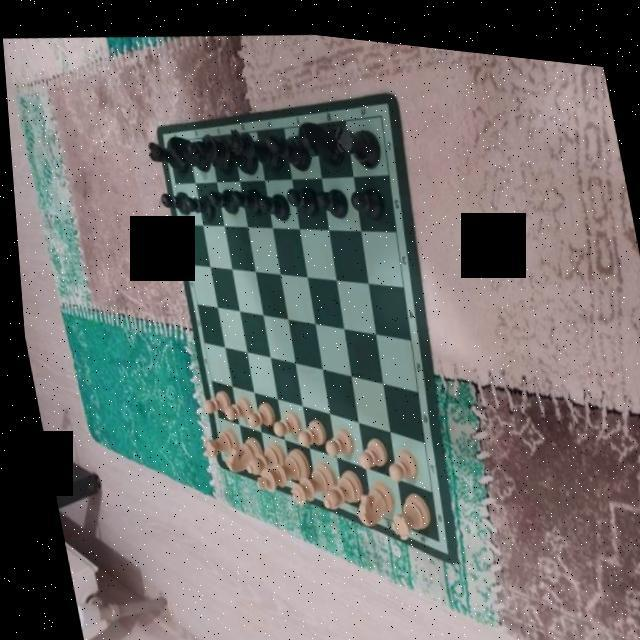chess-table-corners: (373, 96, 387, 116), (424, 522, 438, 539), (212, 444, 222, 456)
